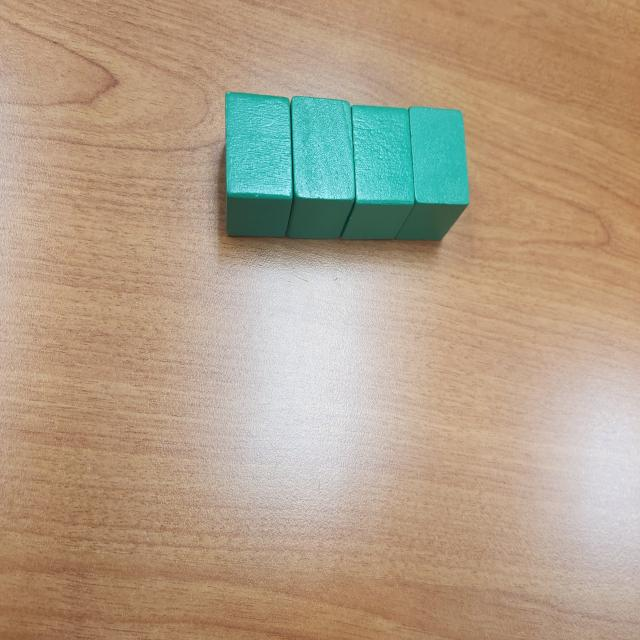green: (221, 90, 293, 239), (340, 103, 416, 240), (286, 96, 357, 240), (394, 104, 468, 242)
